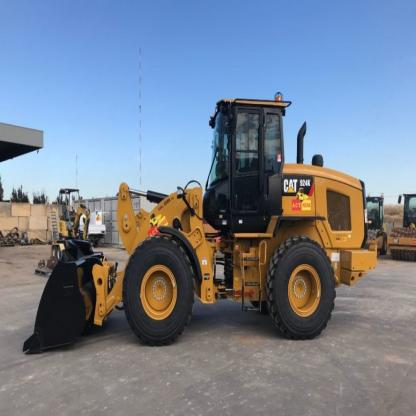bull_dozer/loader/grader: (23, 93, 380, 374)
